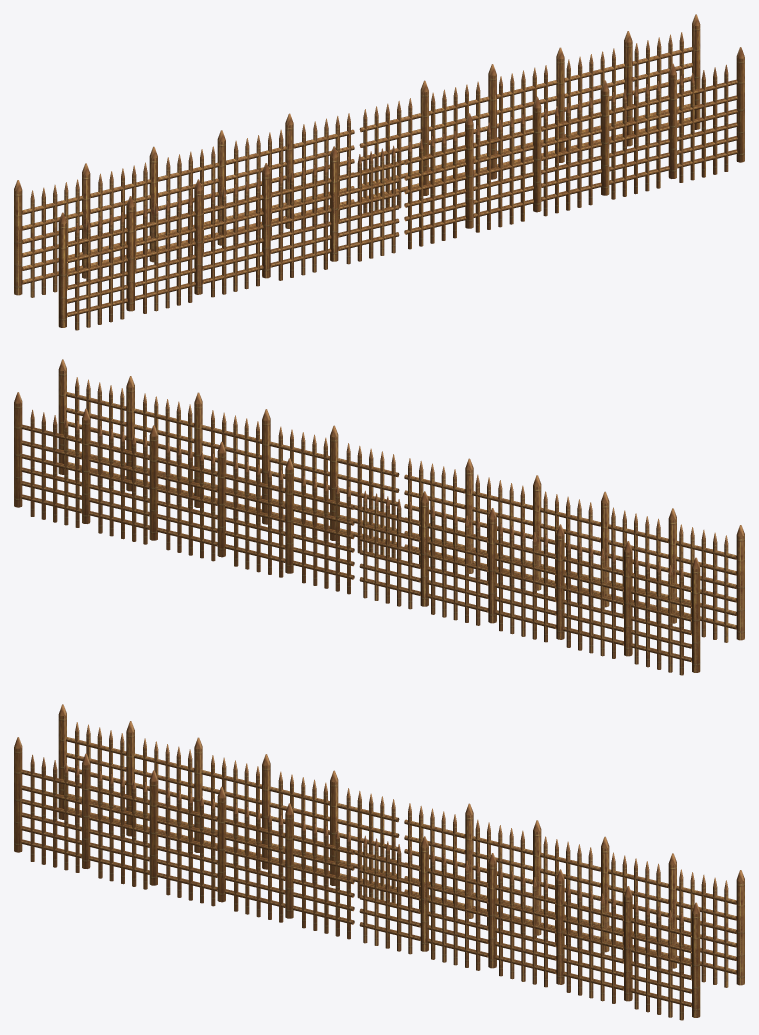
The model's file is maya_pali_med.dae.
3 renders of one model, top to bottom at view 1: azimuth 30°, elevation 25°; view 2: azimuth 150°, elevation 25°; view 3: azimuth 330°, elevation 25°, orthographic.
Visible parts, largest first — view 1: pali_med; view 2: pali_med; view 3: pali_med.
Part boxes in pixels (x1,y1,x2,y2): pali_med: (14,14,744,330); pali_med: (14,359,744,675); pali_med: (14,704,744,1020).
Size of the model in its own units: 23.41 by 2.89 by 3.93.
